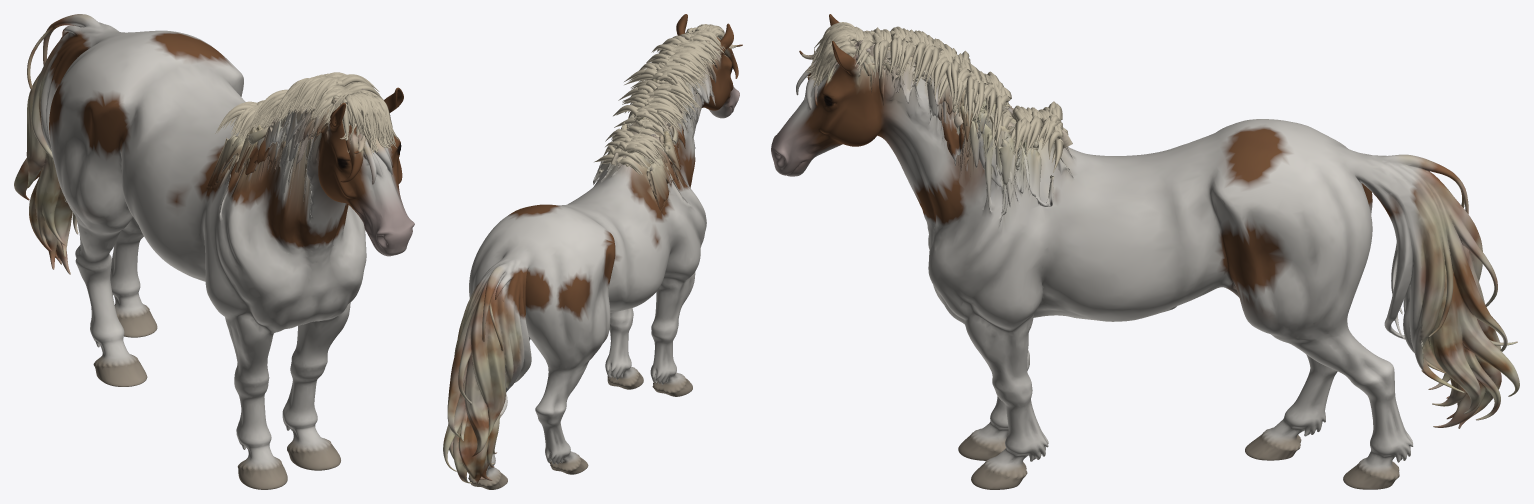
Rendered from Shetland.glb.
3 renders of one model, left to right at view 1: azimuth 30°, elevation 25°; view 2: azimuth 150°, elevation 25°; view 3: azimuth 270°, elevation 25°, orthographic. The views are drawn at different scales.
Parts seen in each view (by area): view 1: Shetland_LOW; view 2: Shetland_LOW; view 3: Shetland_LOW.
Boxes of the visible parts, x1,y1,x2,y2 form: Shetland_LOW: [14, 14, 414, 489]; Shetland_LOW: [443, 14, 742, 489]; Shetland_LOW: [771, 14, 1519, 489].
Size of the model in its own units: 0.5336 by 1.38 by 2.13.
